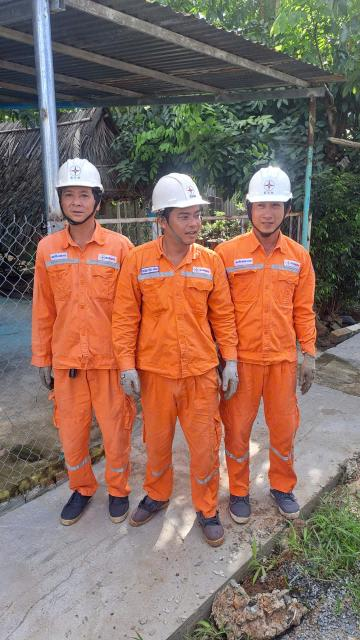gloves: (204, 358, 247, 402), (113, 363, 147, 405), (294, 348, 320, 396), (36, 361, 62, 395)
helmet: (135, 167, 207, 228), (237, 156, 307, 217), (44, 155, 114, 204)
shoes: (126, 482, 174, 523), (192, 497, 228, 545), (268, 475, 304, 519), (60, 477, 91, 523), (105, 483, 132, 532), (224, 490, 255, 528)
